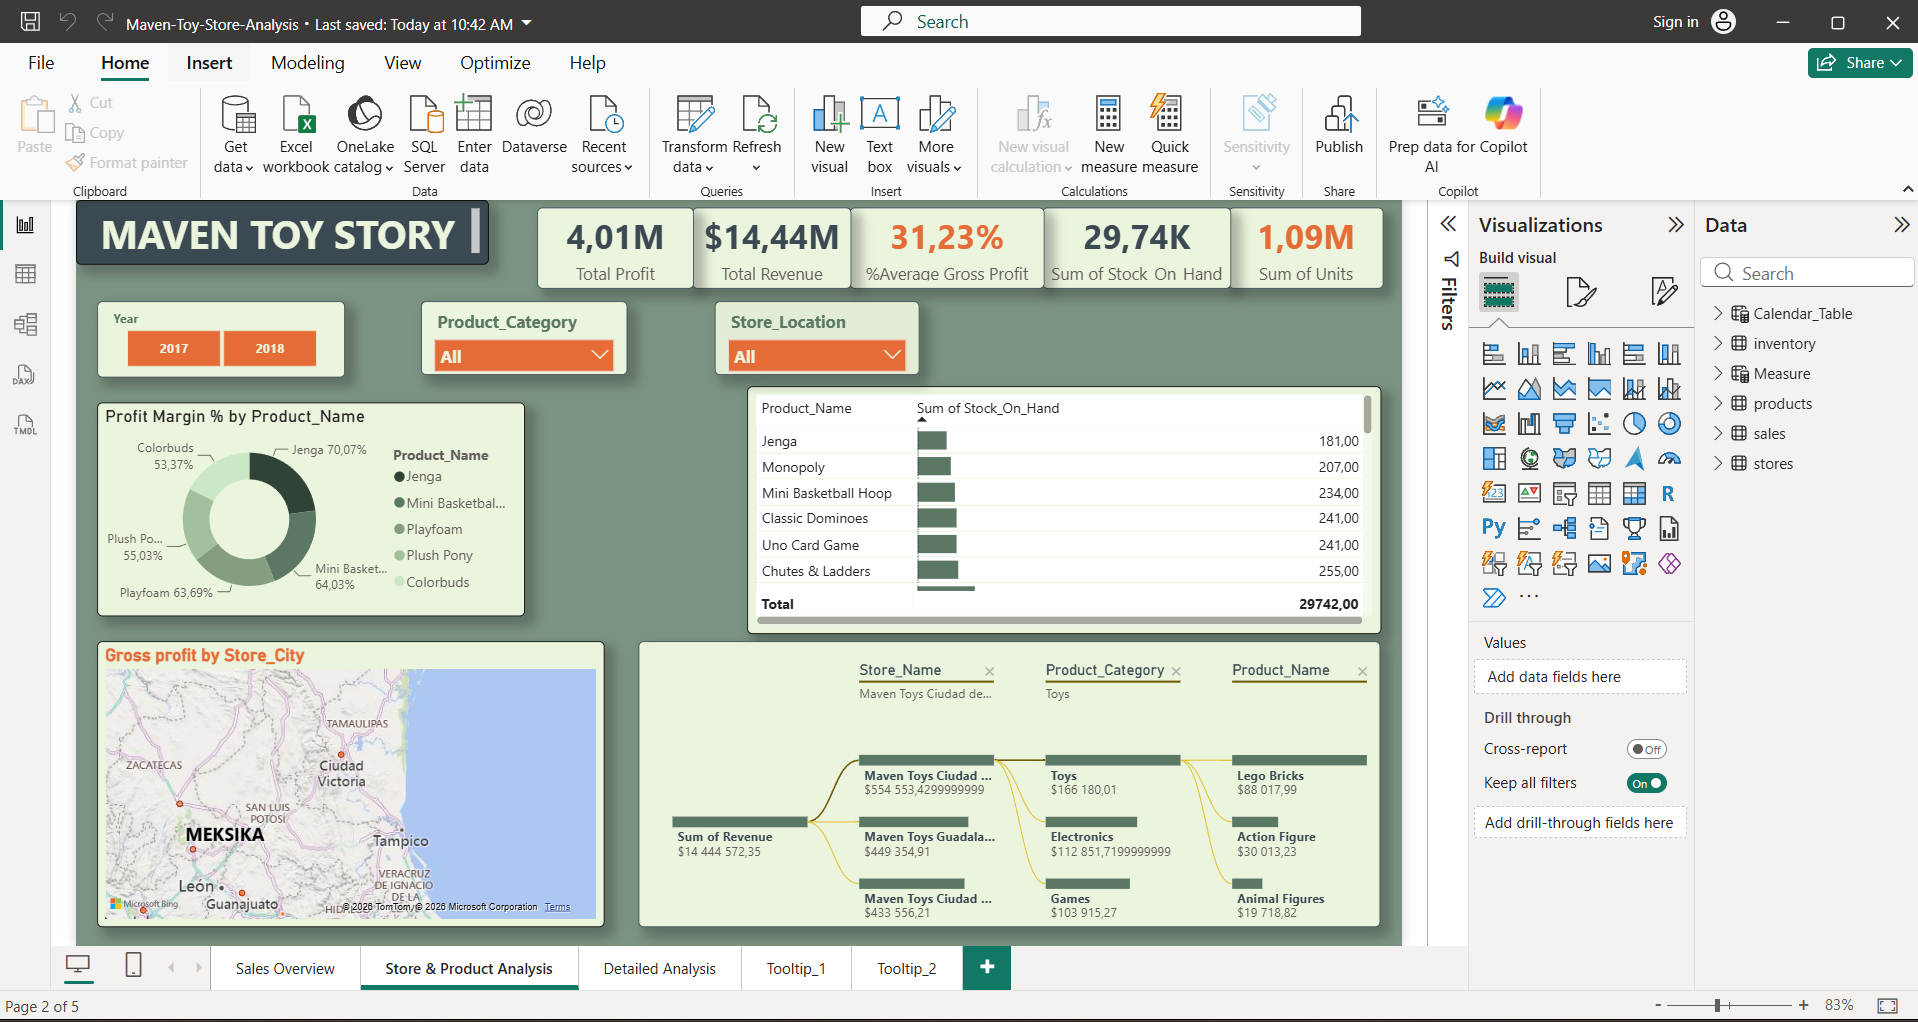

The dashboard page shown, as its layout file describes it:
{"tool":"powerbi","page":{"name":"Store & Product Analysis","canvas":[1280,720],"ordinal":1},"visuals":[{"type":"map","title":"Gross profit by Store_City","fields":{"Category":["stores.Store_City"],"Y":["Avg(sales.Gross profit)"]},"box":[20.6,425.4,489.9,275.8],"z":0},{"type":"tableEx","fields":{"Values":["products.Product_Name","Sum(inventory.Stock_On_Hand)"]},"box":[647.9,179.8,611.7,238.9],"z":1000},{"type":"decompositionTreeVisual","fields":{"Analyze":["Sum(sales.Revenue)"],"ExplainBy":["stores.Store_Name","products.Product_Category","products.Product_Name"]},"box":[543.4,425.4,716.3,275.8],"z":2000},{"type":"textbox","box":[0,0,398.1,62.7],"z":3000},{"type":"donutChart","fields":{"Category":["products.Product_Name"],"Y":["Measure.Profit Margin %"]},"box":[20.5,195.4,412.6,206.3],"z":4000},{"type":"card","fields":{"Values":["Sum(sales.Units)"]},"box":[1112.2,6.9,149.6,78.2],"z":5000},{"type":"card","fields":{"Values":["Sum(inventory.Stock_On_Hand)"]},"box":[932,6.9,182.5,78.2],"z":6000},{"type":"card","fields":{"Values":["Measure.%Average Gross Profit"]},"box":[747,6.9,188,78.2],"z":7000},{"type":"card","fields":{"Values":["Measure.Total Revenue"]},"box":[594.7,6.9,153.7,78.2],"z":8000},{"type":"card","fields":{"Values":["Measure.Total Profit"]},"box":[445.3,6.9,150.9,78.2],"z":9000},{"type":"slicer","fields":{"Values":["Calendar_Table.Year"]},"box":[20.5,97.7,238.9,73.6],"z":10000},{"type":"slicer","fields":{"Values":["products.Product_Category"]},"box":[333,97.7,199.1,71.2],"z":11000},{"type":"slicer","fields":{"Values":["stores.Store_Location"]},"box":[616.5,97.7,197.9,71.2],"z":12000}]}

Visuals, with their boxes on the page's 1280x720 design canvas (x1, y1, x2, y2). These are canvas units, not pixel positions in the 1918x1022 screenshot, which may show the page scaled, cropped or inside an application window:
"Gross profit by Store_City" map: x1=21 y1=425 x2=510 y2=701
tableEx - products.Product_Name x Sum(inventory.Stock_On_Hand): x1=648 y1=180 x2=1260 y2=419
decompositionTreeVisual - Sum(sales.Revenue) x stores.Store_Name: x1=543 y1=425 x2=1260 y2=701
textbox: x1=0 y1=0 x2=398 y2=63
donutChart - products.Product_Name x Measure.Profit Margin %: x1=20 y1=195 x2=433 y2=402
card - Sum(sales.Units): x1=1112 y1=7 x2=1262 y2=85
card - Sum(inventory.Stock_On_Hand): x1=932 y1=7 x2=1114 y2=85
card - Measure.%Average Gross Profit: x1=747 y1=7 x2=935 y2=85
card - Measure.Total Revenue: x1=595 y1=7 x2=748 y2=85
card - Measure.Total Profit: x1=445 y1=7 x2=596 y2=85
slicer - Calendar_Table.Year: x1=20 y1=98 x2=259 y2=171
slicer - products.Product_Category: x1=333 y1=98 x2=532 y2=169
slicer - stores.Store_Location: x1=616 y1=98 x2=814 y2=169
